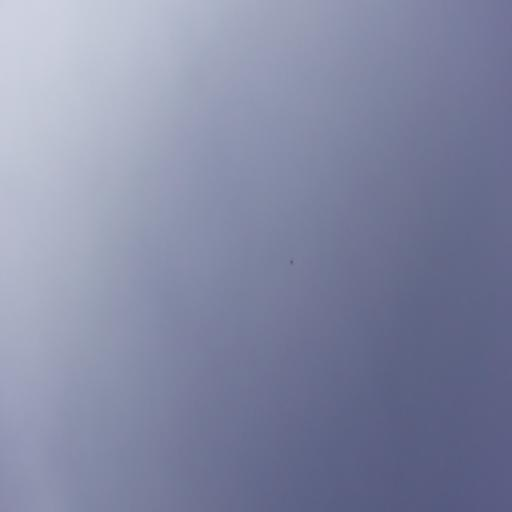drones: (288, 256, 295, 267)
